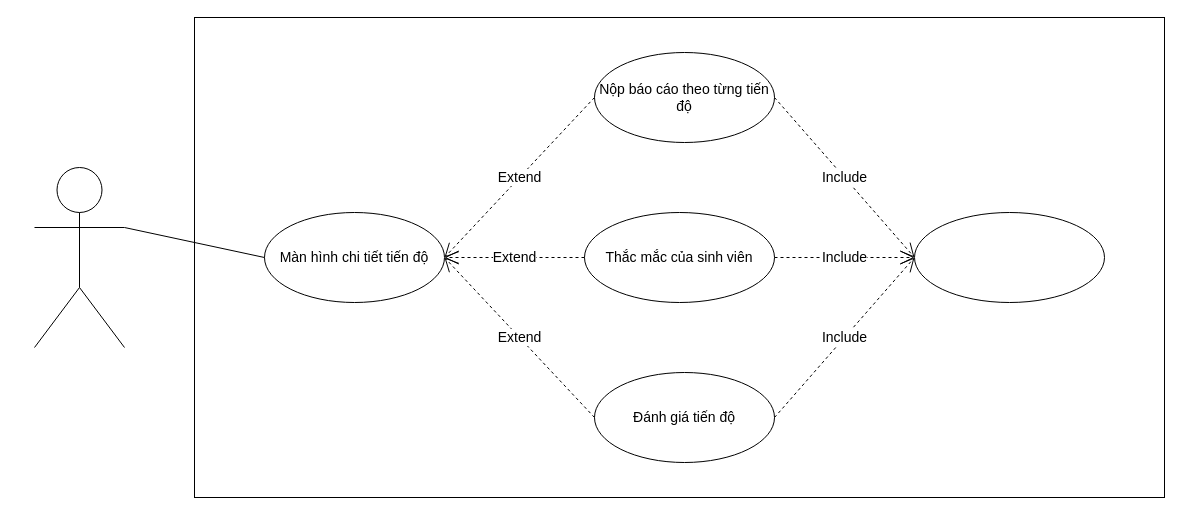
Image size: 1182x515. Some labels were removed from this diagram. Each missing label, with the centre of its shape:
"Giác viên/ Sinh viên" goes at point 79,257.
"Đăng nhập" goes at point 1009,257.
